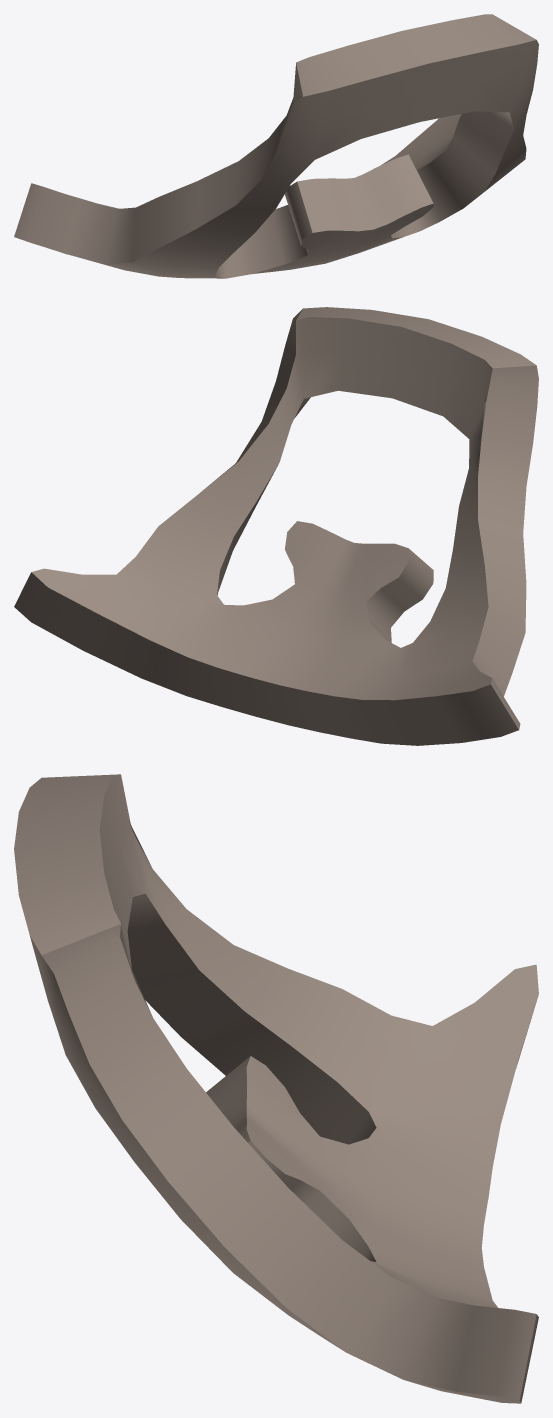
3 views of the same model, one above another, from view 1: azimuth 30°, elevation 25°; view 2: azimuth 150°, elevation 25°; view 3: azimuth 270°, elevation 25° (orthographic). The views are drawn at different scales.
Parts seen in each view (by area): view 1: beard_person_3; view 2: beard_person_3; view 3: beard_person_3.
Part boxes in pixels (x1,y1,x2,y2): beard_person_3: (14,14,538,278); beard_person_3: (14,307,538,745); beard_person_3: (14,774,538,1403).
Size of the model in its own units: 1.03 by 0.6161 by 0.5948.
